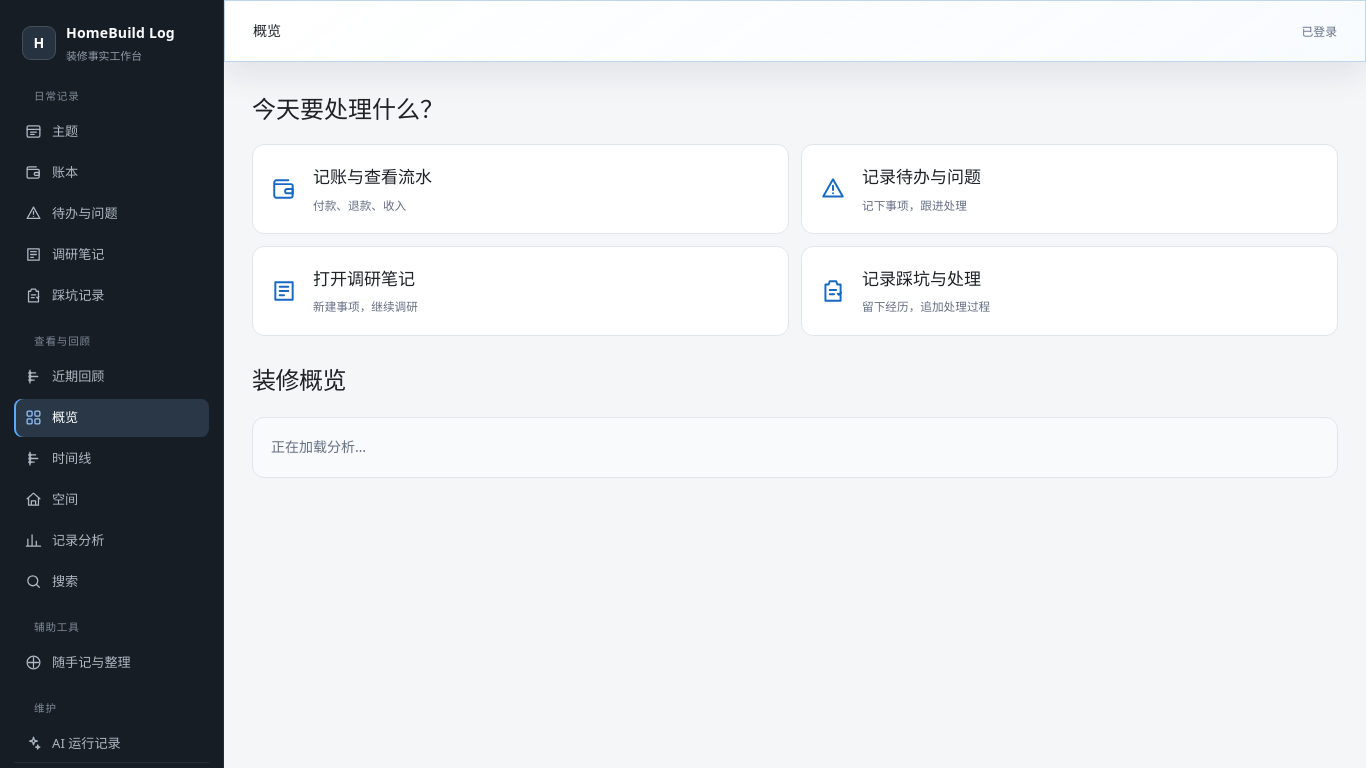
CoreViews › 只读详情直接展示类型核心事实：{"record_type":"decision","topic":"铺贴方向","options":["横贴","竖贴"],"selected_option":"横贴"}
Click the button "时间线" at (112, 459), box top-left (14, 440), bottom-right (209, 478)
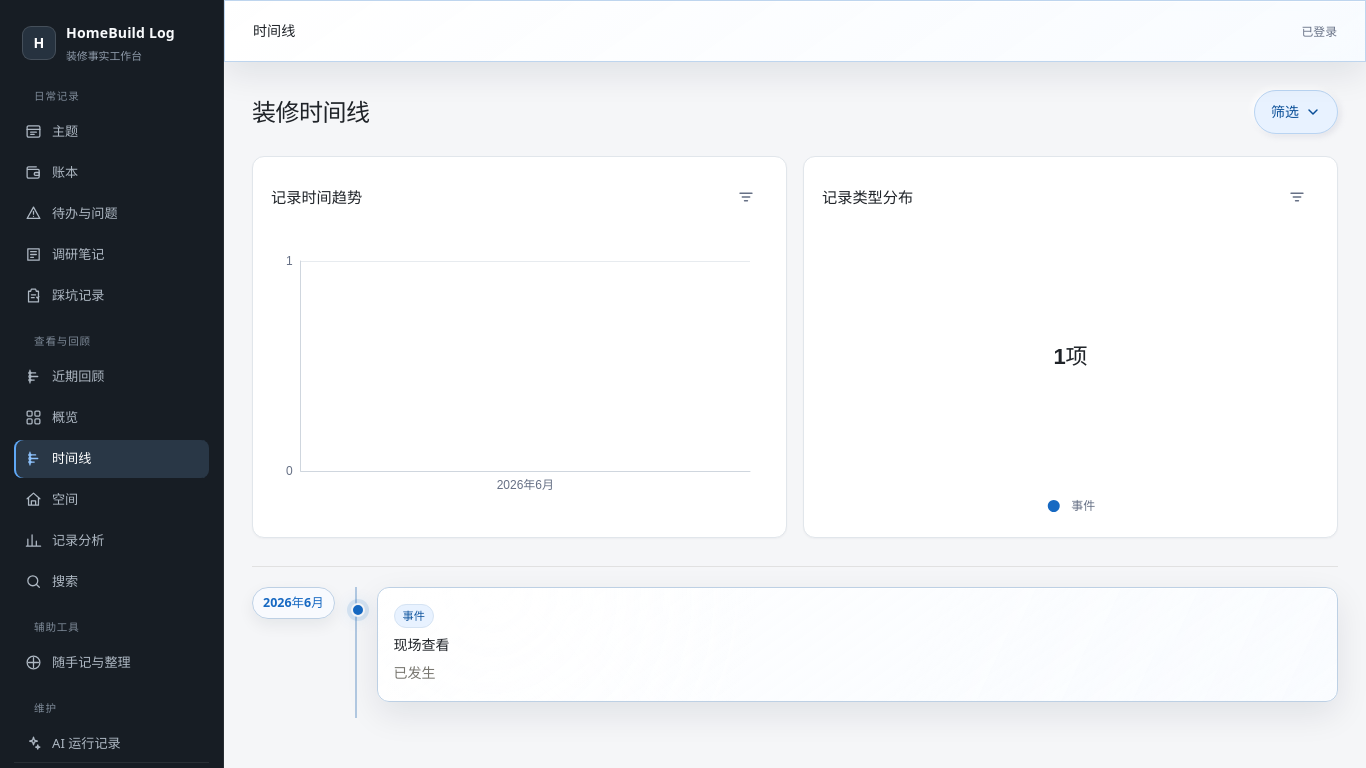
Click the button "事件 现场查看 已发生" at (414, 616), box top-left (377, 587), bottom-right (1338, 702)
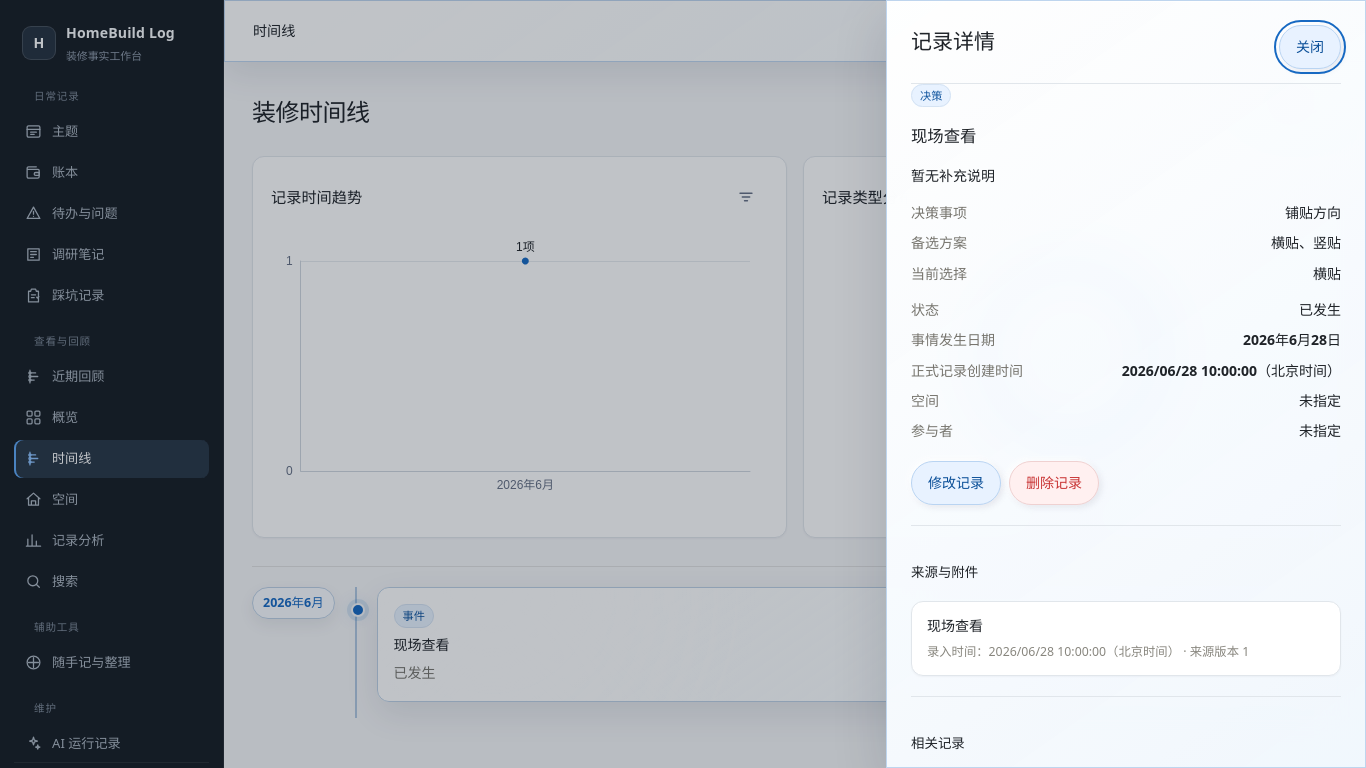
Result: the text "铺贴方向" is shown at top-left (1285, 202), bottom-right (1341, 224)
Result: the text "横贴、竖贴" is shown at top-left (1271, 232), bottom-right (1341, 254)
Result: the text "横贴" is shown at top-left (1313, 262), bottom-right (1341, 285)
